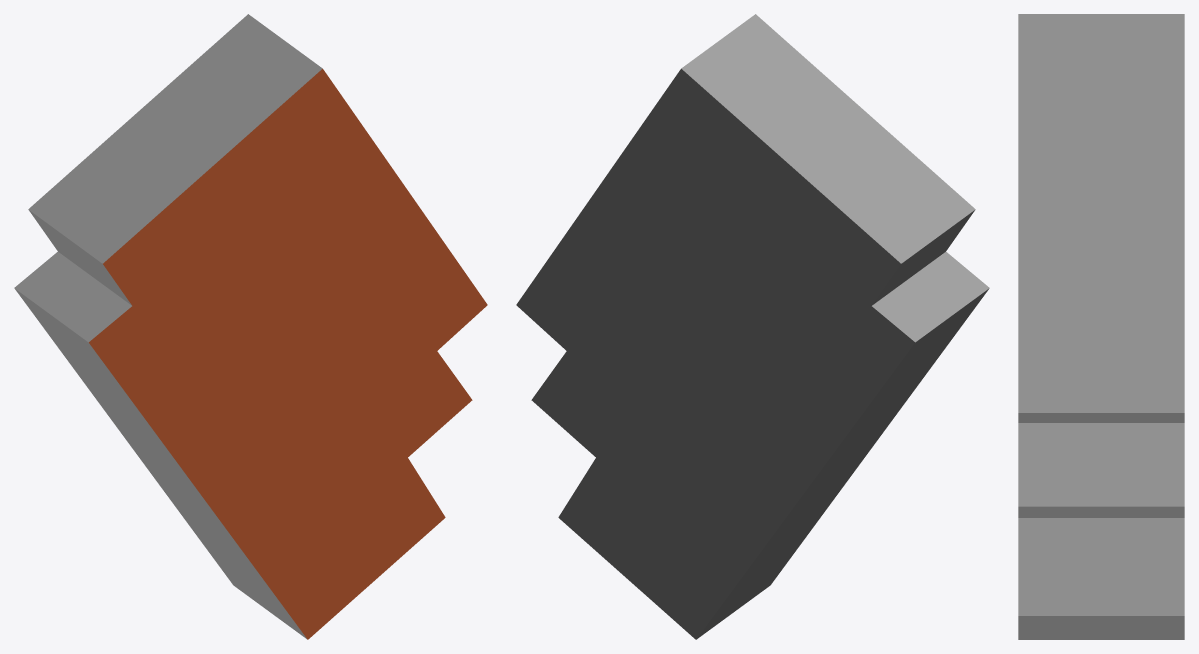
Rendered from construction_6533_assumed_A_Casa_h6m.obj.
3 views of the same model, side by side, from view 1: azimuth 30°, elevation 25°; view 2: azimuth 150°, elevation 25°; view 3: azimuth 270°, elevation 25° (orthographic). The views are drawn at different scales.
Visible parts, largest first — view 1: construction_6533_assumed_A_Casa; view 2: construction_6533_assumed_A_Casa; view 3: construction_6533_assumed_A_Casa.
Part boxes in pixels (x1,y1,x2,y2): construction_6533_assumed_A_Casa: (14,14,487,639); construction_6533_assumed_A_Casa: (516,14,989,639); construction_6533_assumed_A_Casa: (1018,14,1184,639).
Size of the model in its own units: 18.57 by 25.23 by 6.
